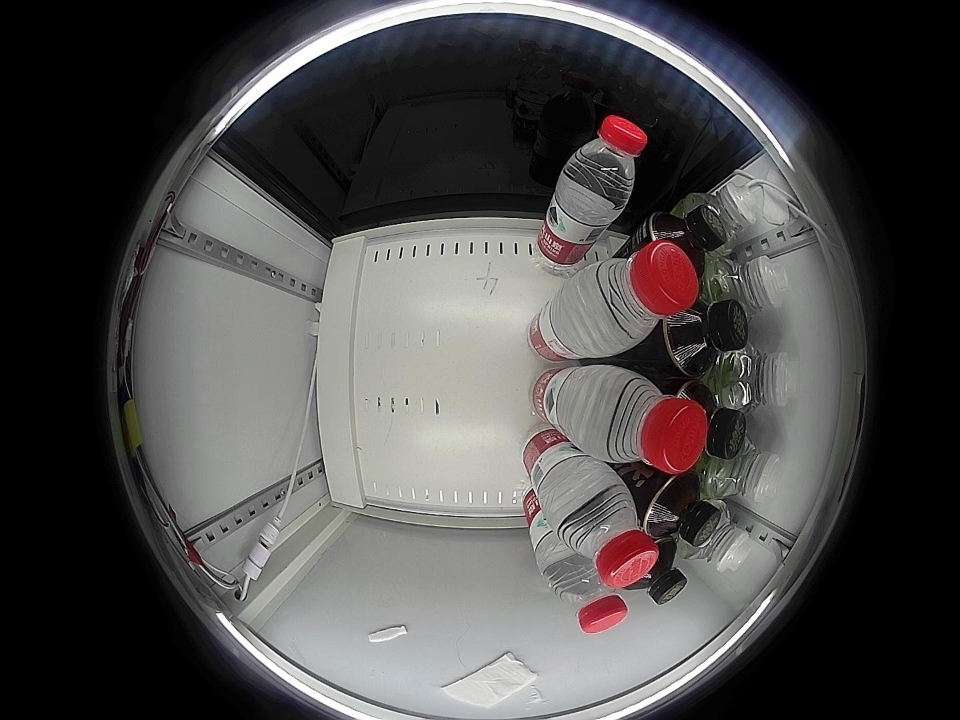jianjiao: (707, 255, 791, 328), (702, 432, 783, 502), (720, 344, 797, 412), (689, 181, 758, 252), (686, 501, 752, 573)
nongfushanquan: (569, 238, 698, 355), (581, 368, 706, 473), (550, 477, 658, 588), (560, 115, 648, 207), (546, 559, 629, 635)
rancha-1: (664, 299, 750, 376), (643, 472, 720, 546), (679, 381, 747, 460), (646, 206, 728, 267), (636, 541, 687, 606)
